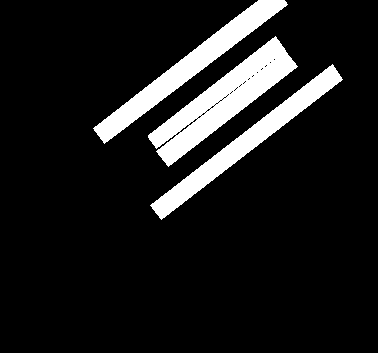parkingspot: (150, 64, 342, 219), (93, 0, 287, 143), (156, 51, 297, 166), (148, 36, 285, 148)
